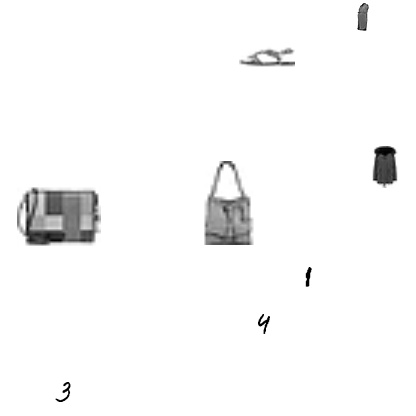1: (294, 262, 322, 290)
3: (51, 378, 79, 406)
4: (250, 308, 278, 336)
Bag: (17, 173, 101, 257), (187, 161, 271, 245)
Coat: (364, 146, 406, 188)
Dress: (349, 3, 377, 31)
Sandal: (239, 28, 295, 84)
